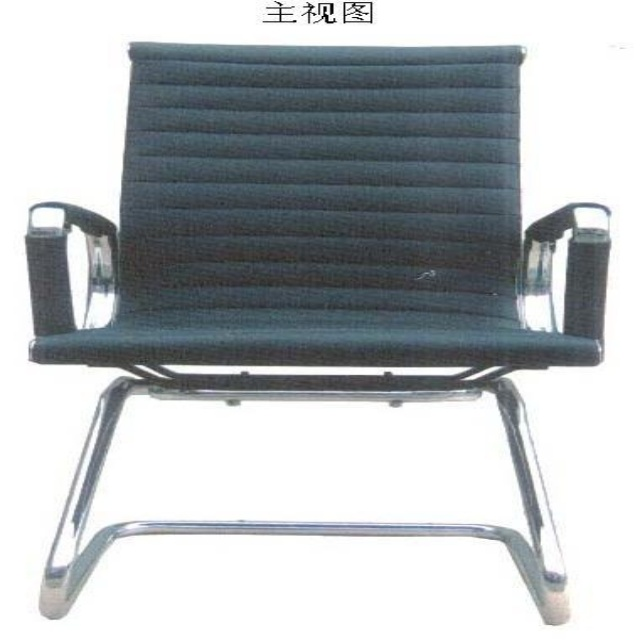obstacle: (25, 43, 608, 623)
